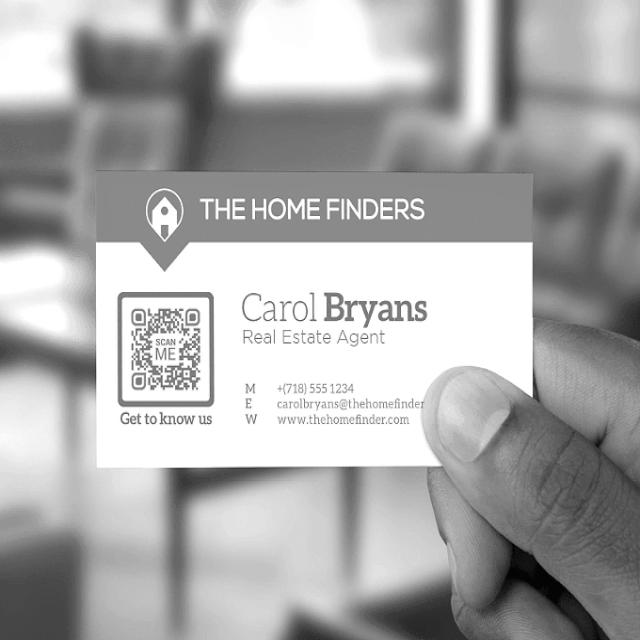QR-codes: (128, 308, 201, 392)
